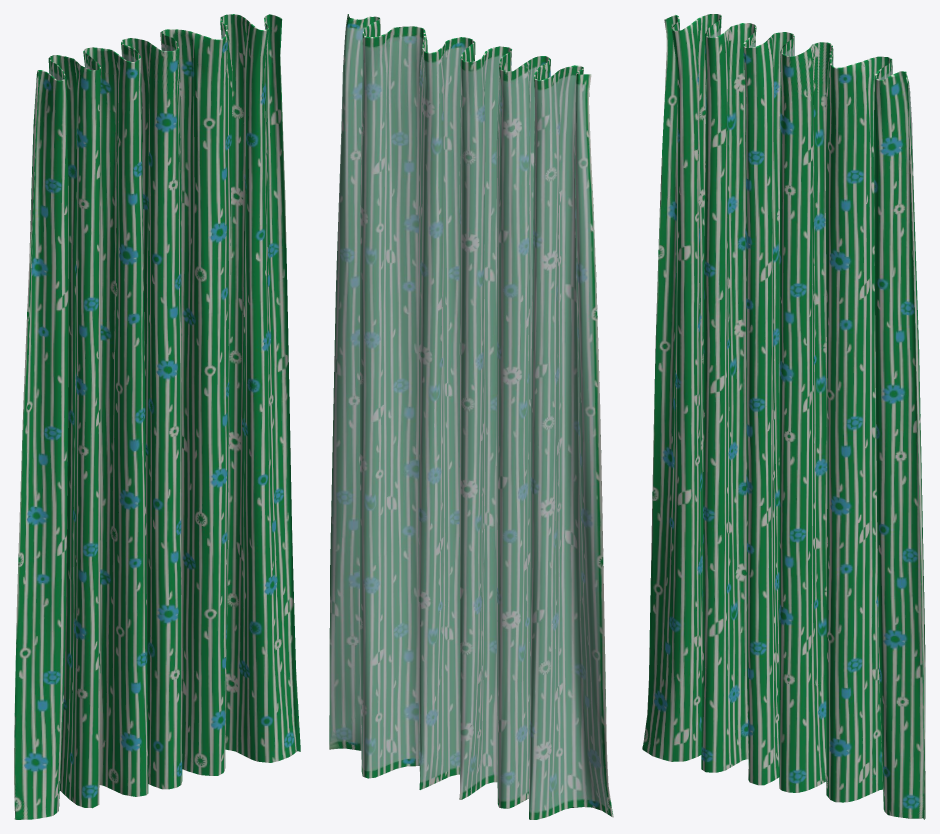
The model's file is bollbuddleja_zasona_prysznicowa_30609925.glb.
The picture shows the model from 3 angles, left to right: view 1: azimuth 30°, elevation 25°; view 2: azimuth 150°, elevation 25°; view 3: azimuth 330°, elevation 25°; orthographic projection.
Parts seen in each view (by area): view 1: bollbuddleja_zasona_prysznicowa_30609925; view 2: bollbuddleja_zasona_prysznicowa_30609925; view 3: bollbuddleja_zasona_prysznicowa_30609925.
Part boxes in pixels (left/top/right/bottom): bollbuddleja_zasona_prysznicowa_30609925: left=14, top=14, right=300, bottom=819; bollbuddleja_zasona_prysznicowa_30609925: left=329, top=14, right=613, bottom=819; bollbuddleja_zasona_prysznicowa_30609925: left=642, top=14, right=925, bottom=819.
Bounding box in the file's own units: 0.8237 × 2.05 × 0.157.
Materials: 1 (1 with a texture image).
